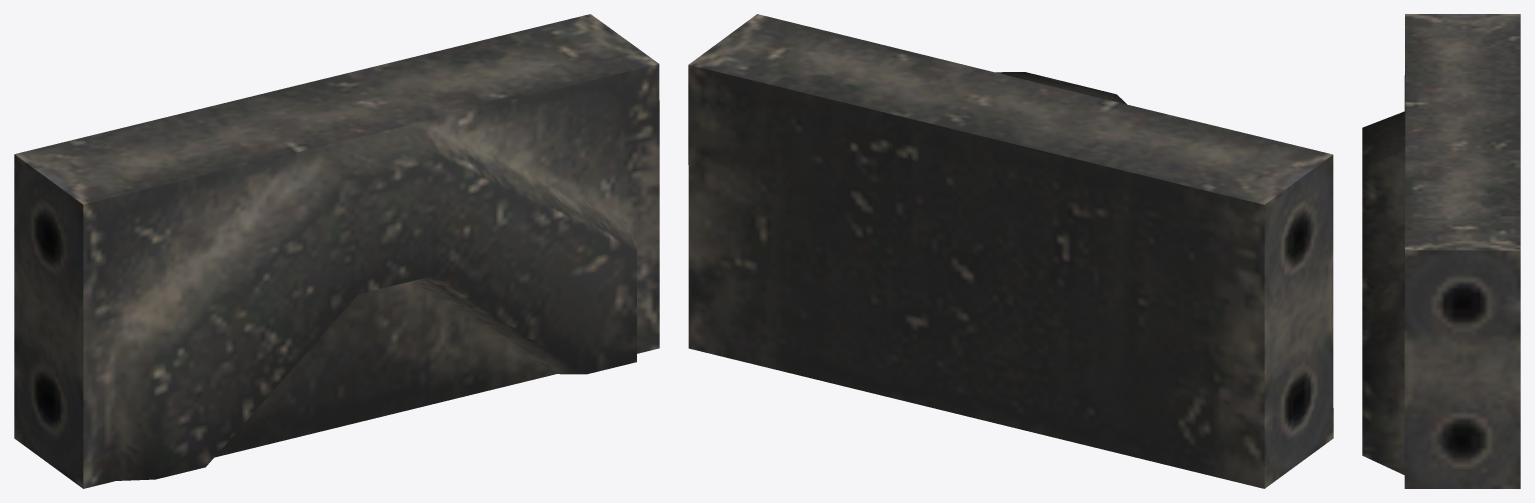
The picture shows the model from 3 angles, left to right: view 1: azimuth 30°, elevation 25°; view 2: azimuth 150°, elevation 25°; view 3: azimuth 270°, elevation 25°; orthographic projection. The views are drawn at different scales.
Parts seen in each view (by area): view 1: set_0_group_0; view 2: set_0_group_0; view 3: set_0_group_0.
Part boxes in pixels (<box>): set_0_group_0: <box>14,14,659,488</box>; set_0_group_0: <box>688,14,1333,488</box>; set_0_group_0: <box>1362,14,1520,488</box>.
Size of the model in its own units: 0.3131 by 0.1479 by 0.0887.
Materials: 1 (1 with a texture image).
